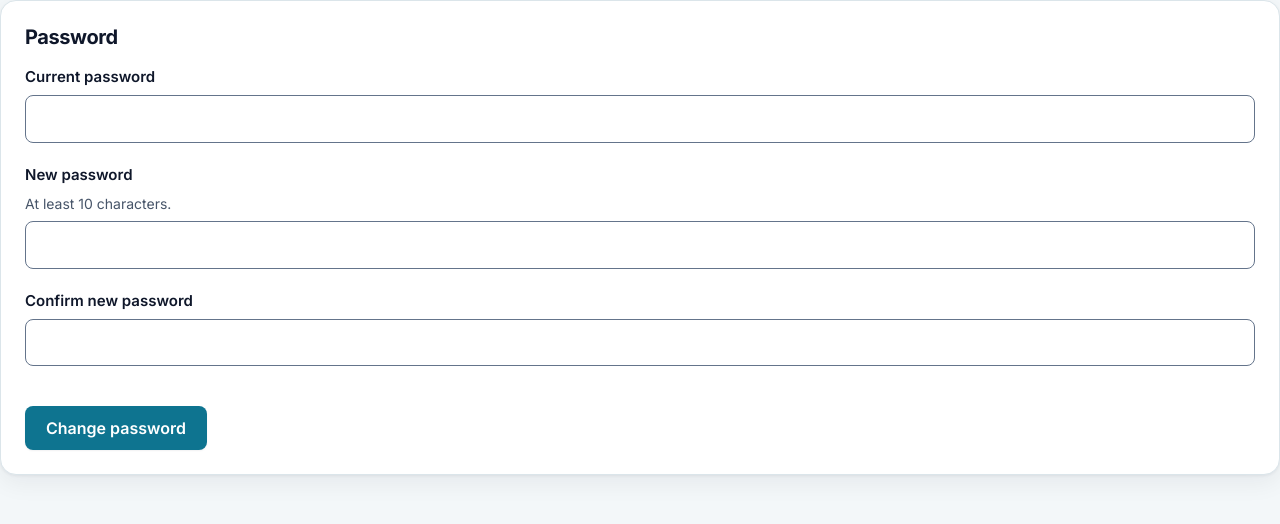
Test: ChangePasswordForm › shows a wrong current password next to its field
In the password field labelled "Current password": {"x": 640, "y": 119} [25,95,1255,143], type "wrong-password"
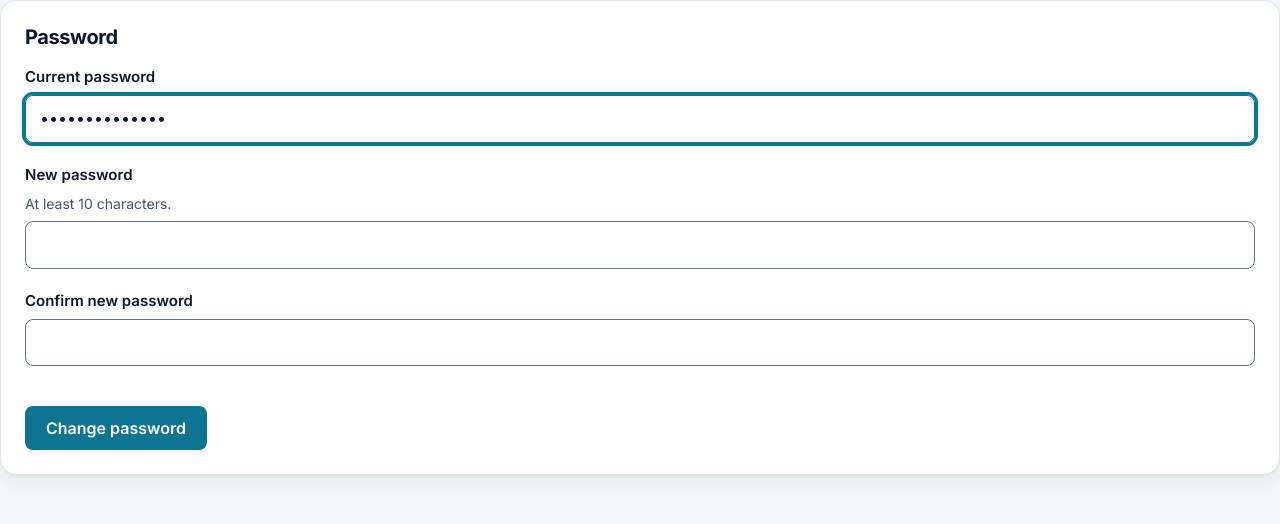
In the password field labelled "New password": {"x": 640, "y": 245} [25,221,1255,269], type "a-brand-new-password"
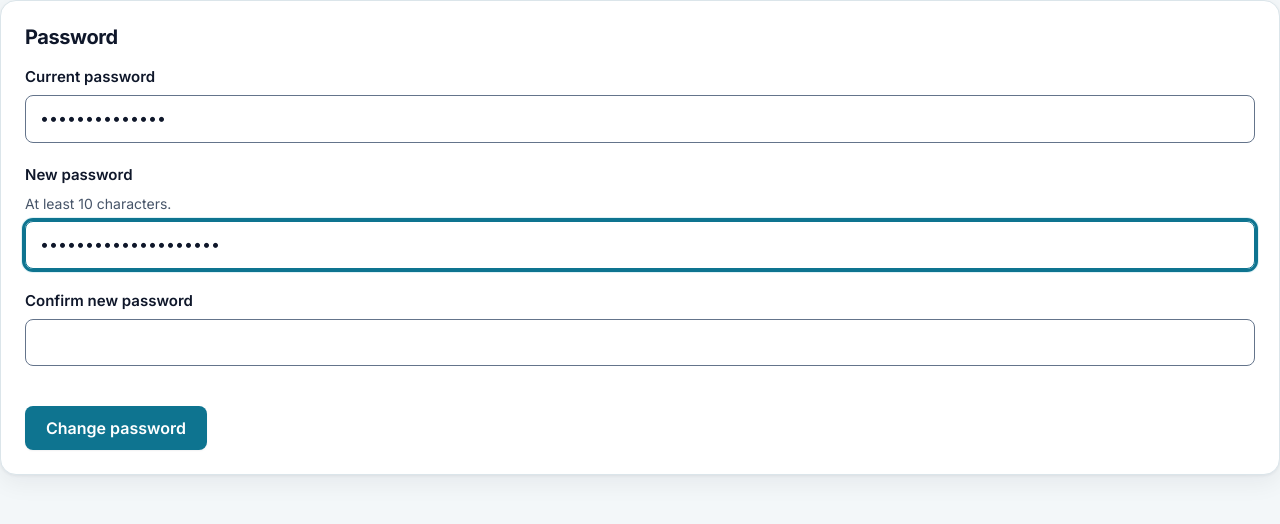
In the password field labelled "Confirm new password": {"x": 640, "y": 342} [25,319,1255,366], type "a-brand-new-password"
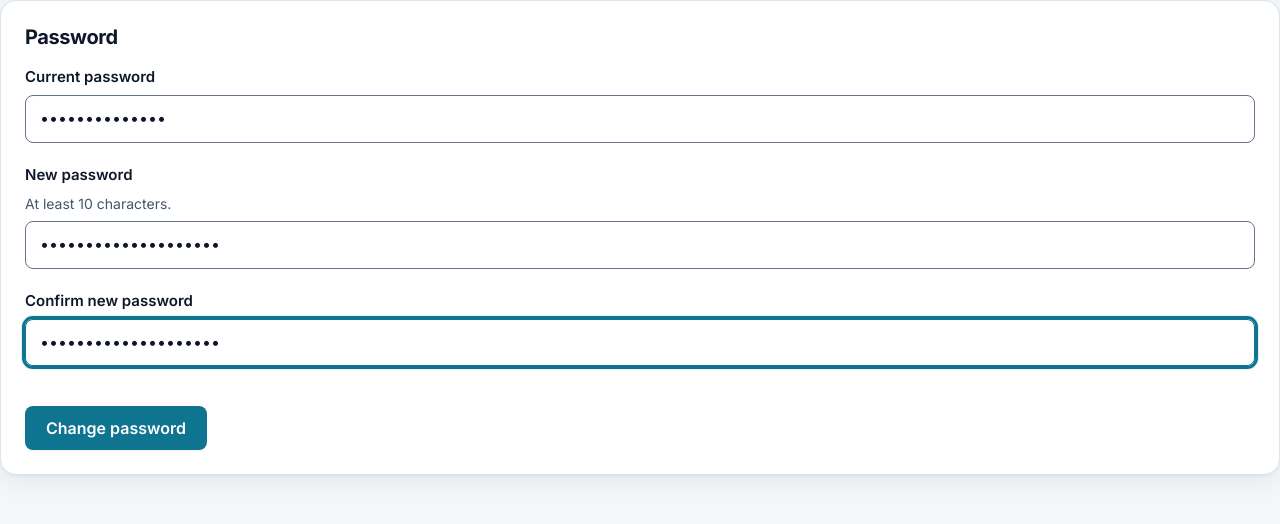
Click the button "Change password": {"x": 116, "y": 428} [25,406,207,450]
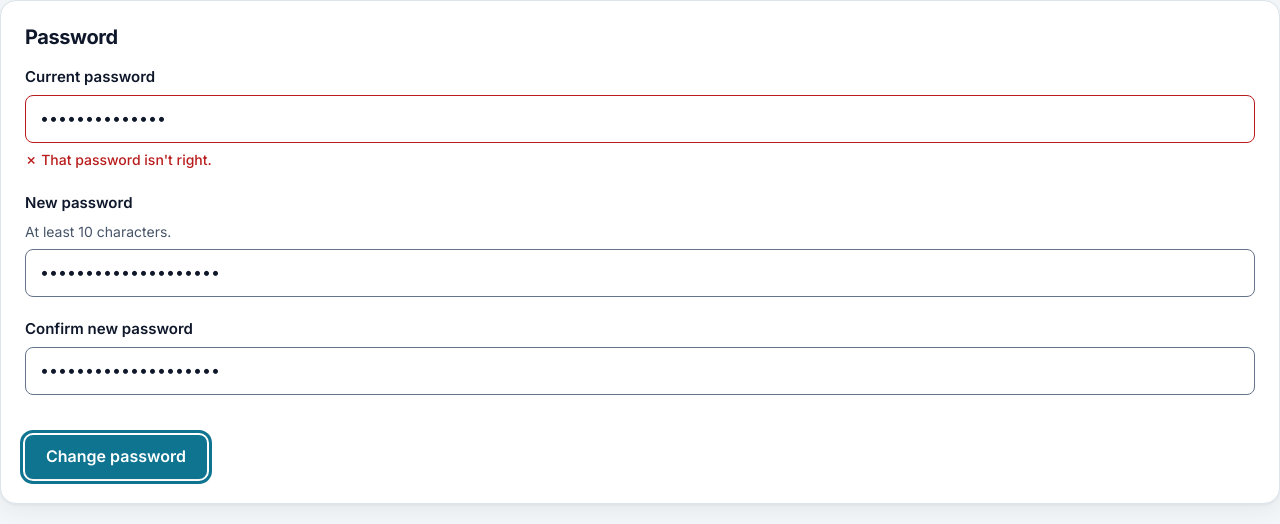
Expected: the text "That password isn't right." is shown, [41,151,212,168]
